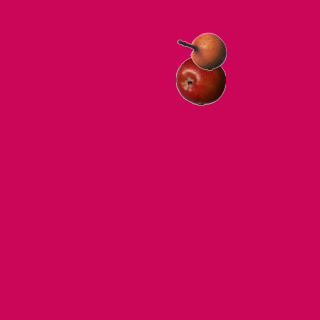Apple Braeburn: (175, 55, 225, 105)
Granadilla: (176, 26, 226, 76)
